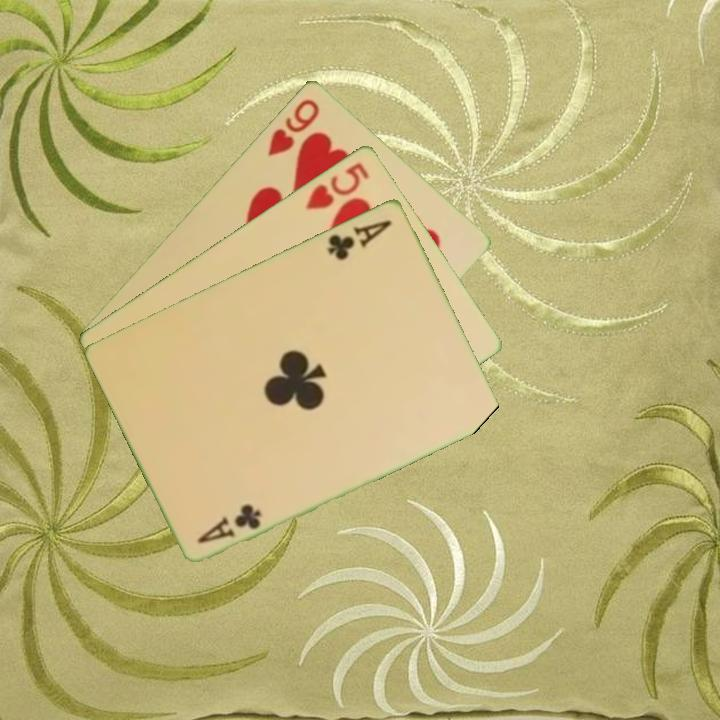5h: (301, 158, 373, 212)
9h: (264, 95, 323, 159)
Ac: (324, 215, 394, 263), (193, 499, 264, 546)
